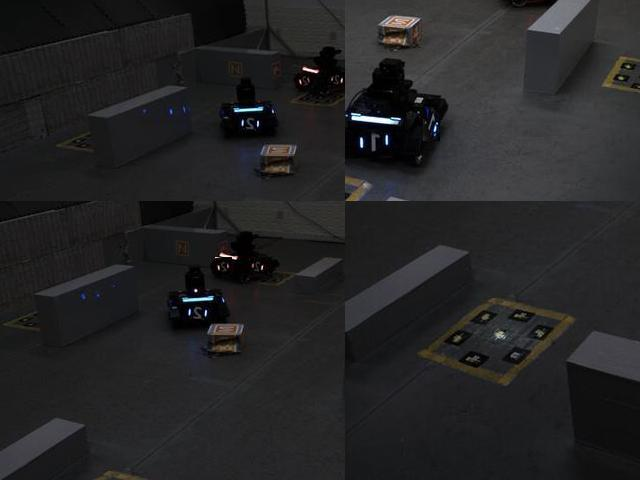armor: (354, 130, 394, 160), (424, 108, 442, 143), (184, 305, 213, 323), (237, 117, 264, 132), (216, 258, 234, 277), (250, 257, 268, 275), (297, 73, 316, 89), (327, 72, 344, 89)
